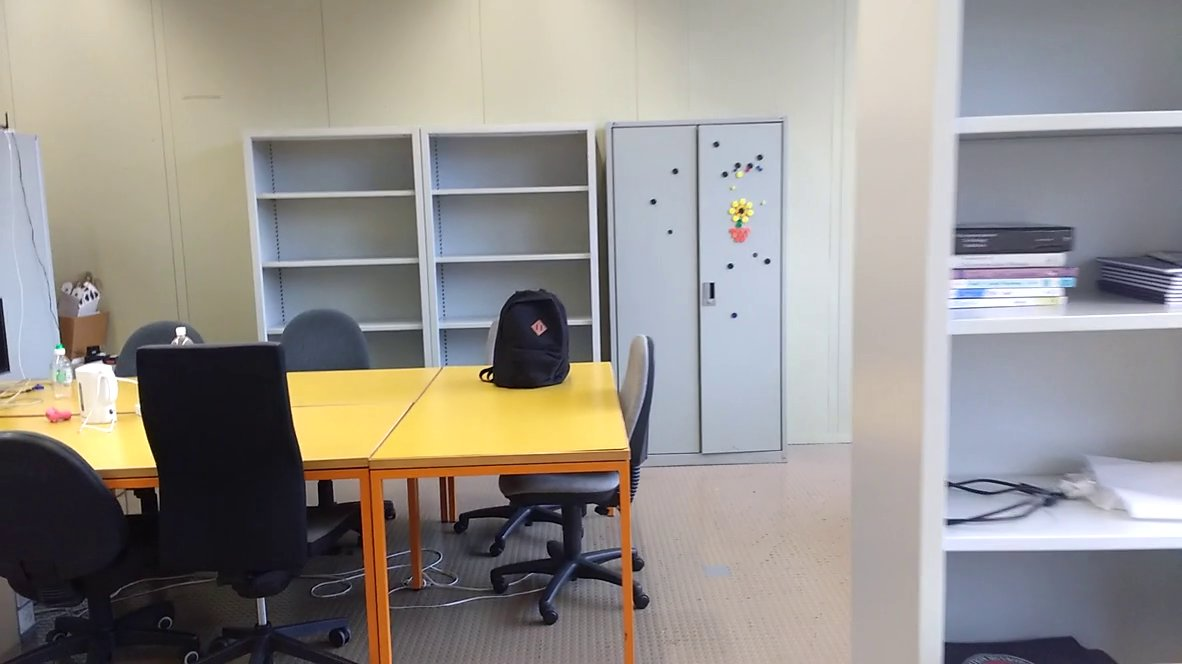bag: (477, 282, 578, 396)
chair: (117, 333, 365, 664), (498, 326, 690, 621), (1, 422, 188, 664), (265, 305, 391, 389)
